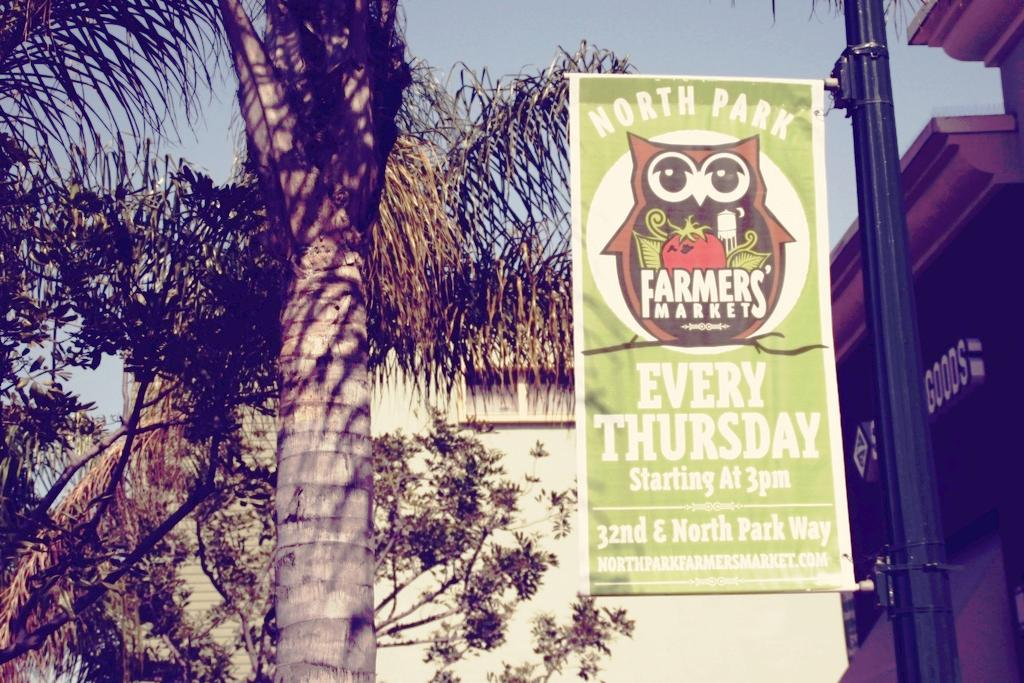Owl: (594, 132, 802, 346)
